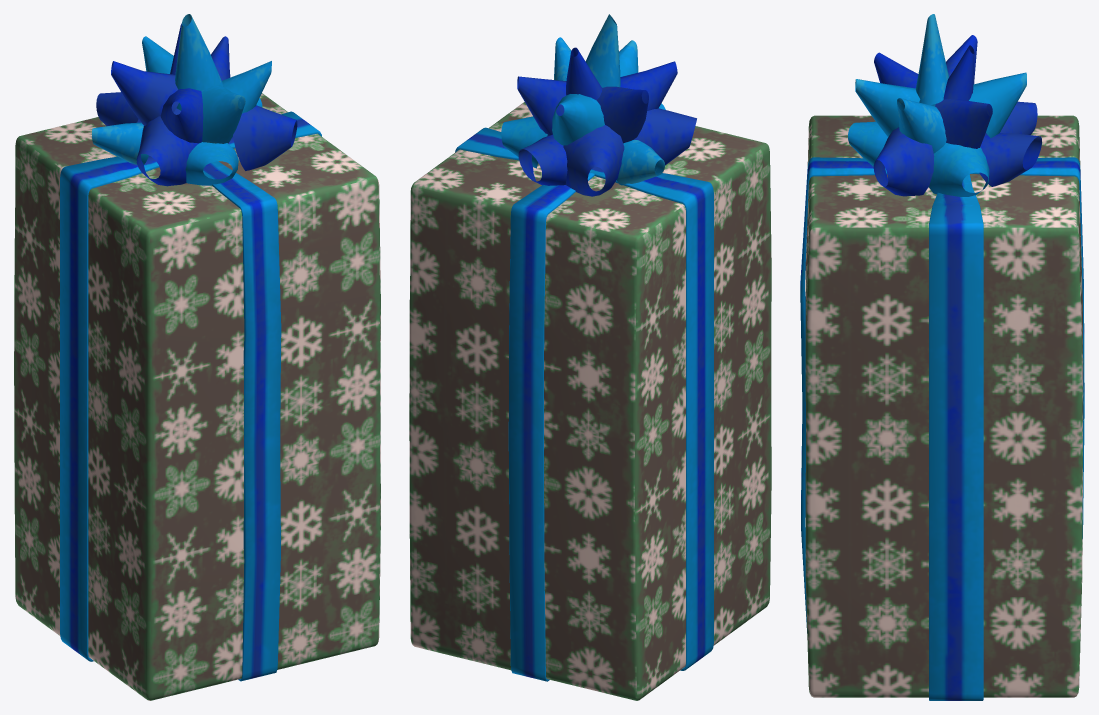
The model's file is Gift0201.gltf.
The picture shows the model from 3 angles, left to right: view 1: azimuth 30°, elevation 25°; view 2: azimuth 150°, elevation 25°; view 3: azimuth 270°, elevation 25°; orthographic projection.
Parts seen in each view (by area): view 1: Present; view 2: Present; view 3: Present.
Boxes of the visible parts, x1,y1,x2,y2 form: Present: [14, 14, 380, 700]; Present: [409, 14, 771, 700]; Present: [800, 14, 1084, 700].
Size of the model in its own units: 0.0676 by 0.1705 by 0.0703.
1 material, 1 textured.
